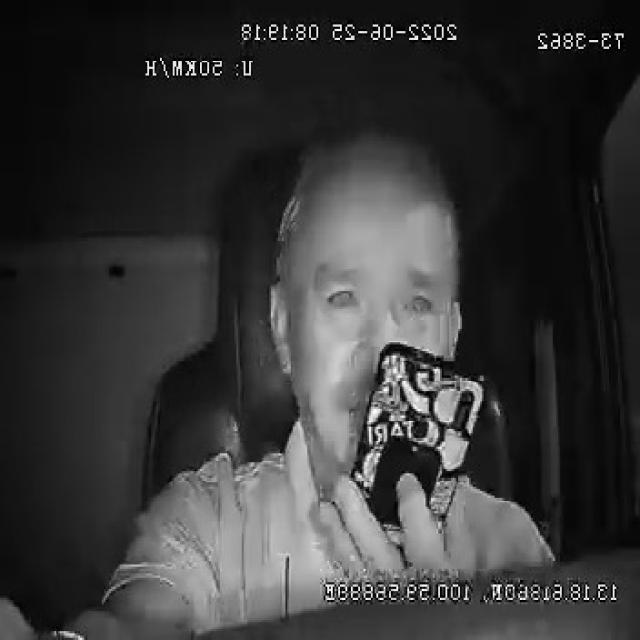phone: (350, 342, 488, 536)
